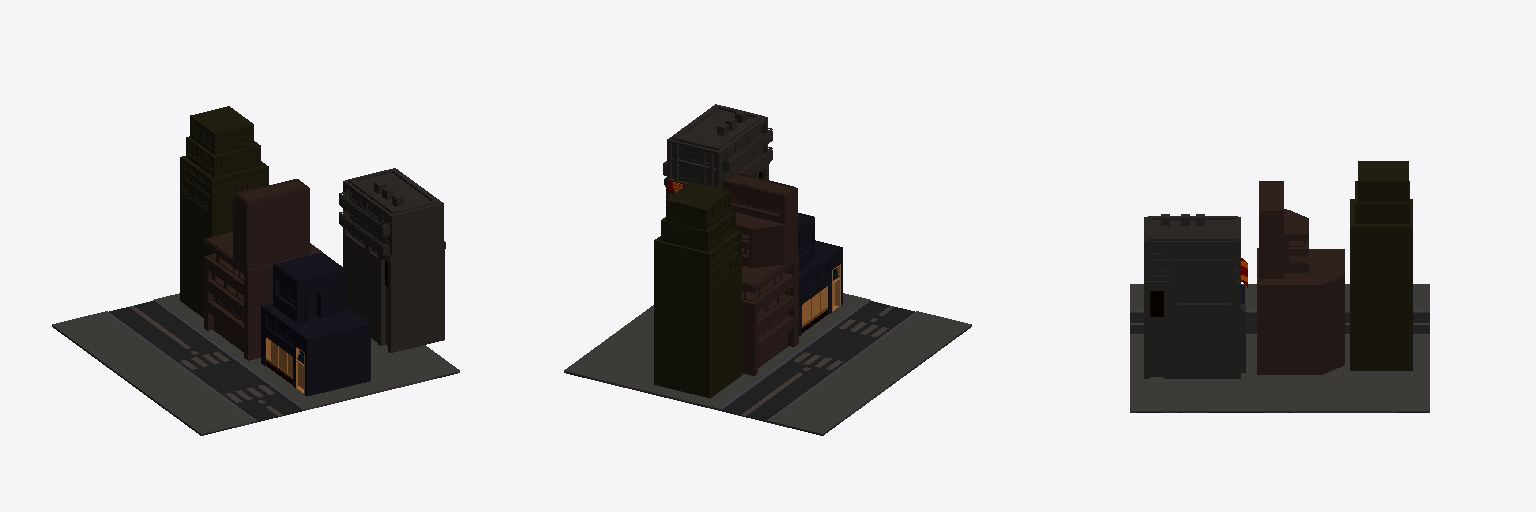
3 views of the same model, side by side, from view 1: azimuth 30°, elevation 25°; view 2: azimuth 150°, elevation 25°; view 3: azimuth 270°, elevation 25° (orthographic).
Parts seen in each view (by area): view 1: object 1; view 2: object 1; view 3: object 1.
Boxes of the visible parts, x1,y1,x2,y2 form: object 1: [52, 106, 459, 435]; object 1: [564, 104, 971, 435]; object 1: [1130, 161, 1429, 412].
Bounding box in the file's own units: 25.6 × 17.7 × 25.6.
Materials: 1 (1 with a texture image).